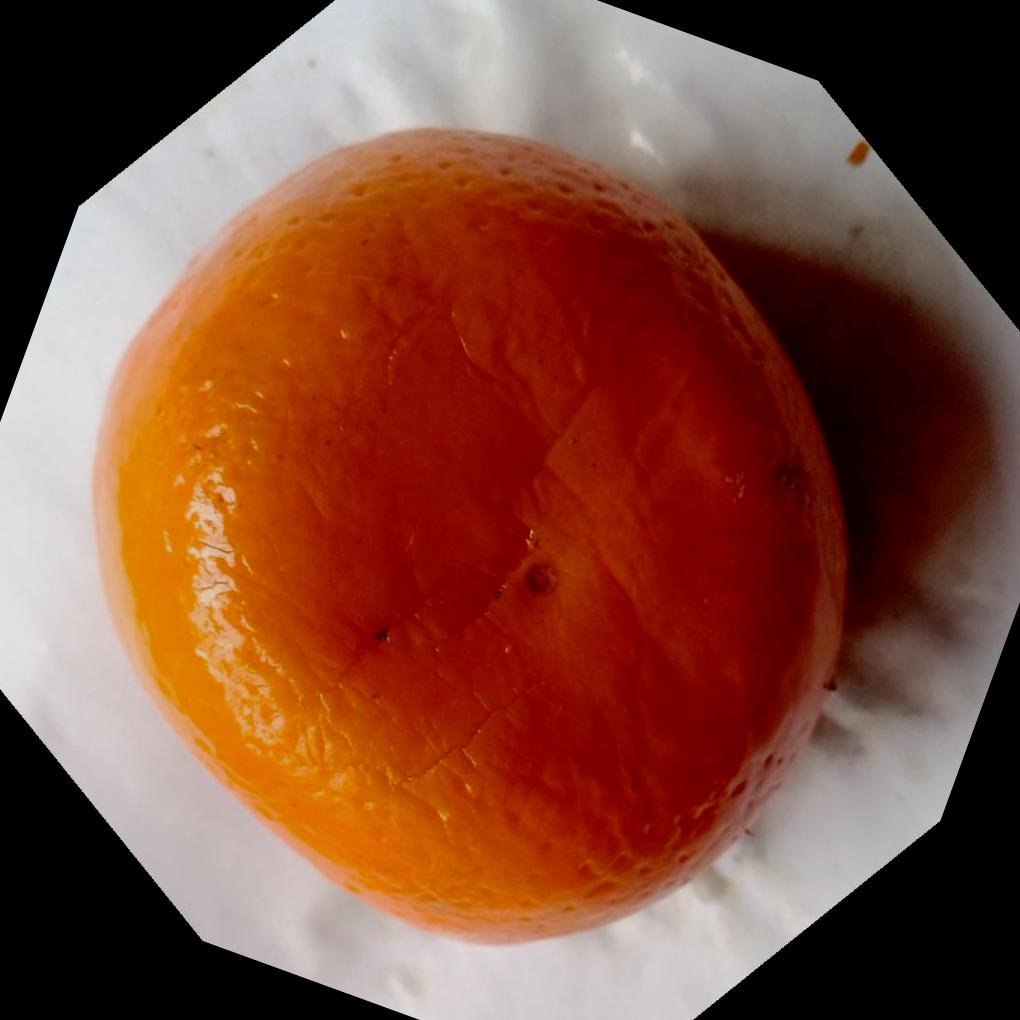FreshOrange: (92, 123, 857, 952)
